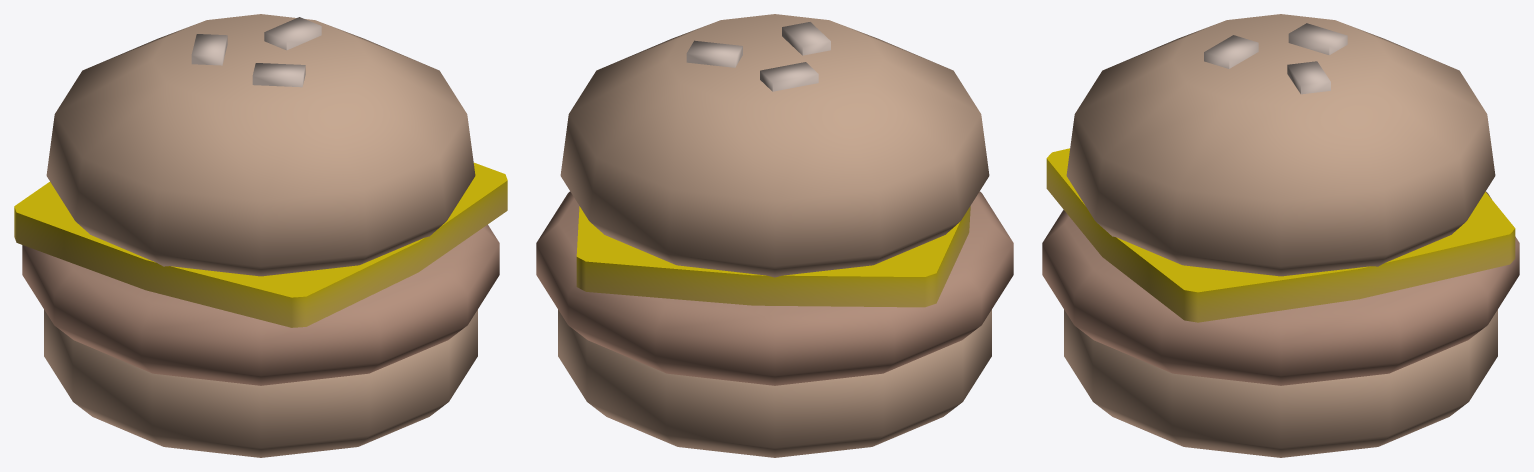
Rendered from burger-cheese.glb.
The picture shows the model from 3 angles, left to right: view 1: azimuth 30°, elevation 25°; view 2: azimuth 150°, elevation 25°; view 3: azimuth 270°, elevation 25°; orthographic projection.
Parts seen in each view (by area): view 1: burger-cheese; view 2: burger-cheese; view 3: burger-cheese.
Boxes of the visible parts, x1,y1,x2,y2 form: burger-cheese: [14, 14, 507, 457]; burger-cheese: [536, 14, 1013, 457]; burger-cheese: [1042, 14, 1519, 457].
Bounding box in the file's own units: 0.2354 × 0.1768 × 0.2354.
